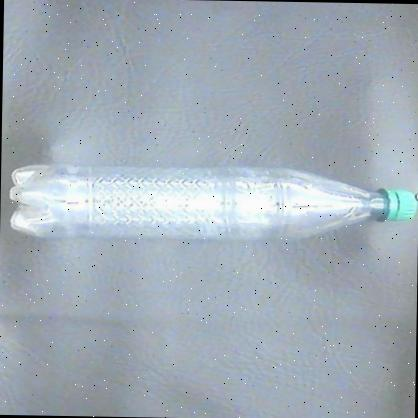bottle: (4, 159, 416, 248)
cap: (379, 183, 418, 228)
